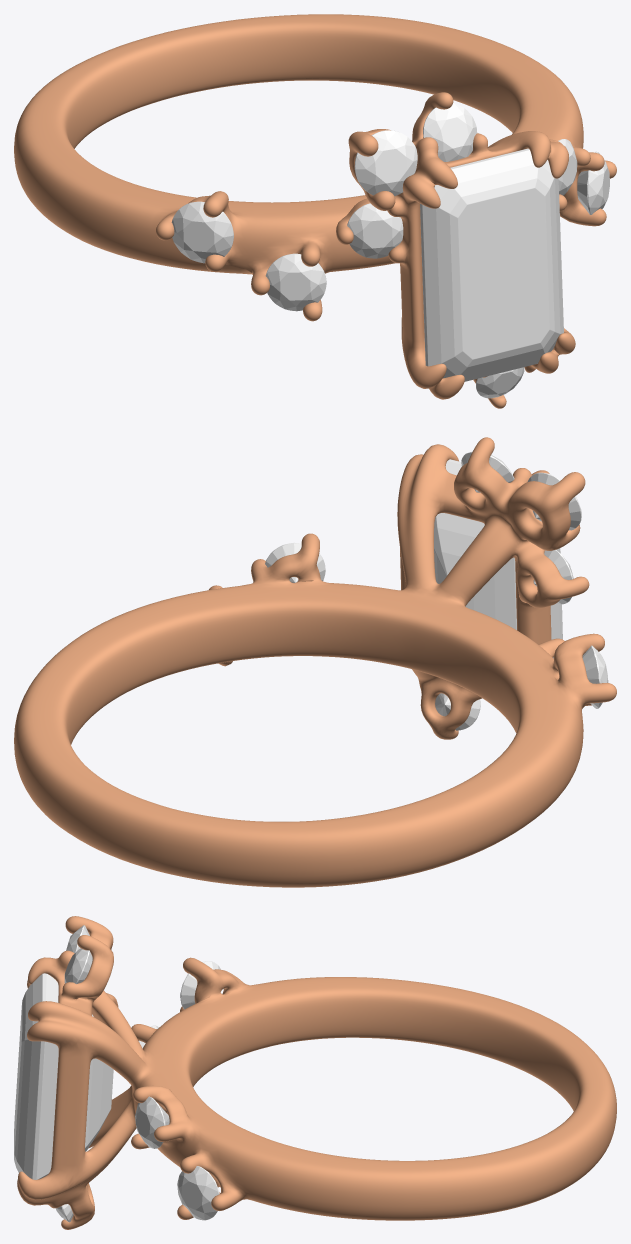
The model's file is flower.glb.
3 renders of one model, top to bottom at view 1: azimuth 30°, elevation 25°; view 2: azimuth 150°, elevation 25°; view 3: azimuth 270°, elevation 25°, orthographic. The views are drawn at different scales.
Visible parts, largest first — view 1: ring, diamond; view 2: ring, diamond; view 3: ring, diamond.
Boxes of the visible parts, x1=… form: ring: x1=14, y1=14, x2=616, y2=408; diamond: x1=171, y1=103, x2=609, y2=398; ring: x1=14, y1=437, x2=616, y2=887; diamond: x1=265, y1=451, x2=608, y2=730; ring: x1=17, y1=916, x2=616, y2=1229; diamond: x1=14, y1=925, x2=220, y2=1222.
Size of the model in its own units: 1.26 by 0.7772 by 1.54.
